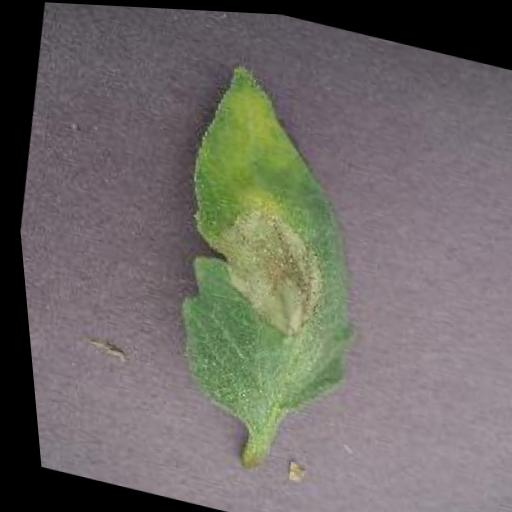Late Blight: (134, 44, 409, 452)
